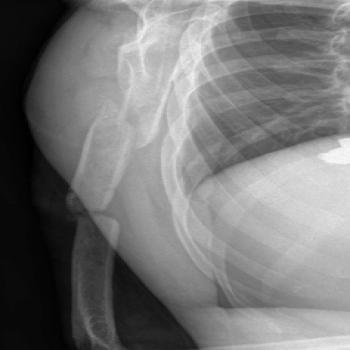Fracture: (59, 191, 137, 231)
